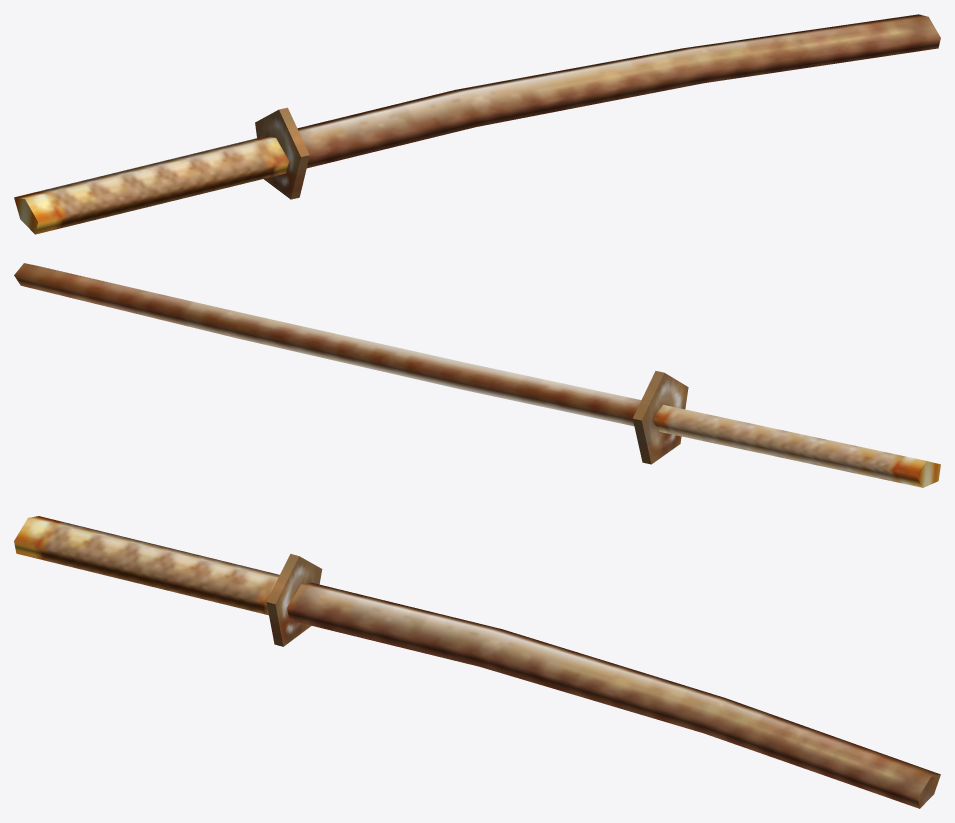
Rendered from sword_4.fbx.
3 views of the same model, one above another, from view 1: azimuth 30°, elevation 25°; view 2: azimuth 150°, elevation 25°; view 3: azimuth 330°, elevation 25° (orthographic).
Visible parts, largest first — view 1: mesh_0; view 2: mesh_0; view 3: mesh_0.
Part boxes in pixels (x1,y1,x2,y2): mesh_0: [14, 14, 940, 234]; mesh_0: [14, 263, 940, 487]; mesh_0: [14, 516, 940, 808].
Size of the model in its own units: 132 by 11.27 by 11.79.
1 material, 1 textured.
